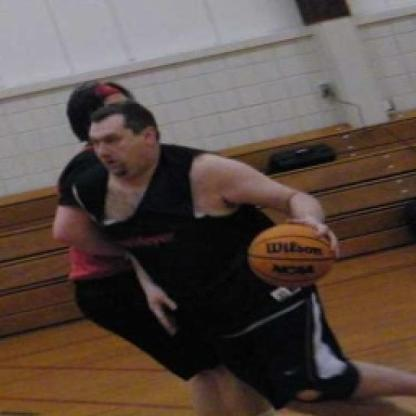basketball: (249, 223, 333, 288)
